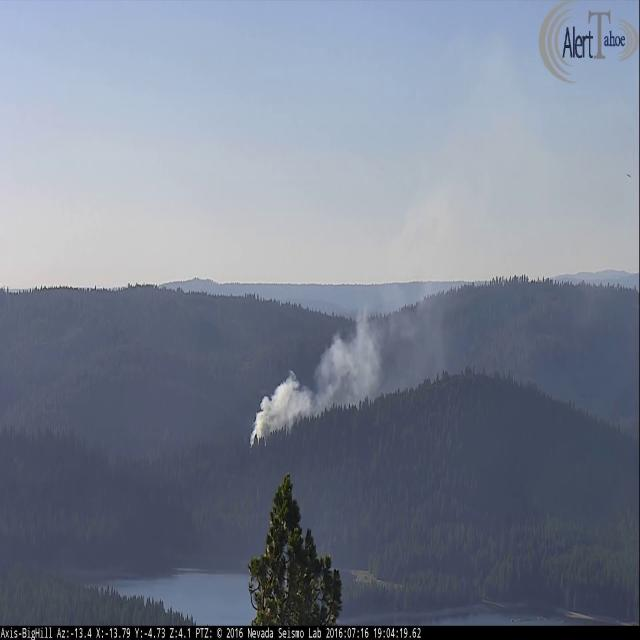smoke: (245, 32, 528, 450)
